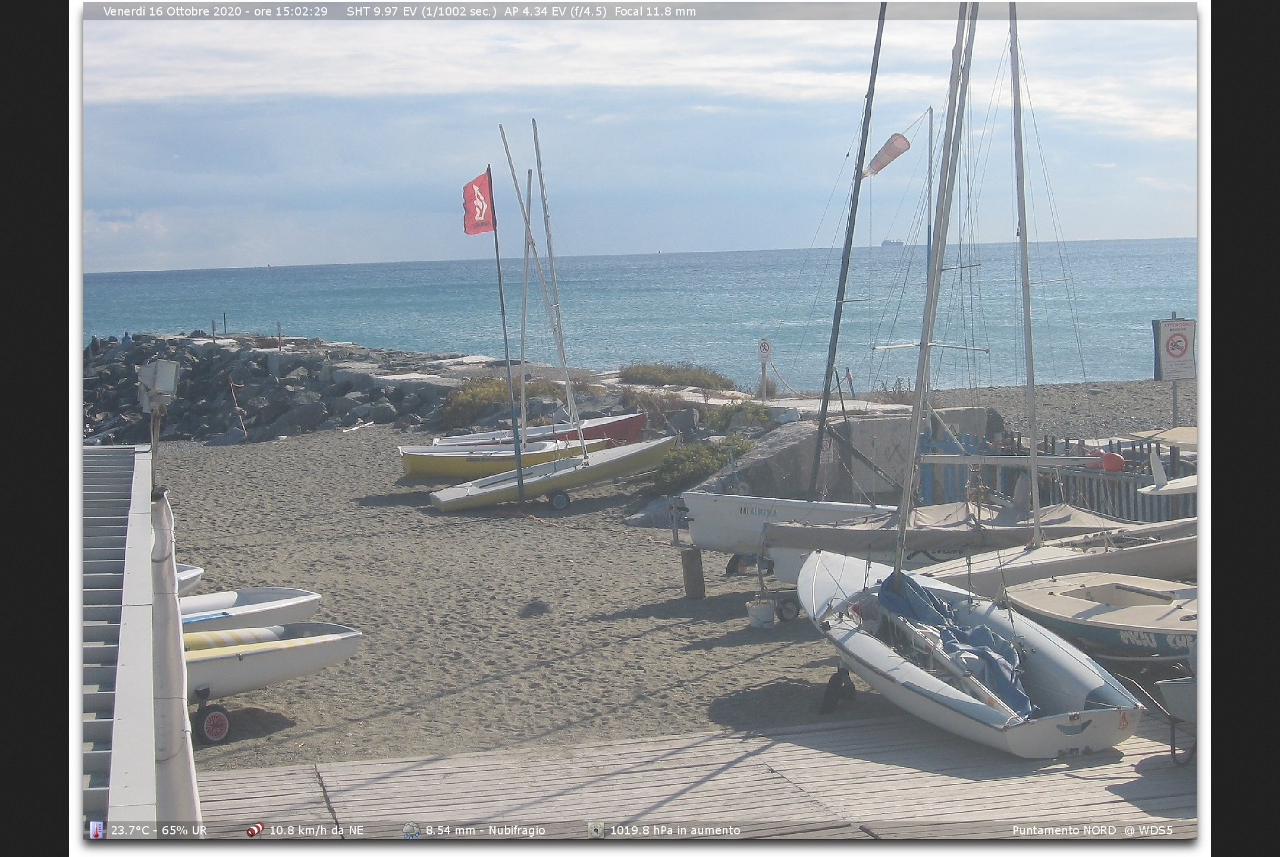yes: (458, 168, 502, 237)
